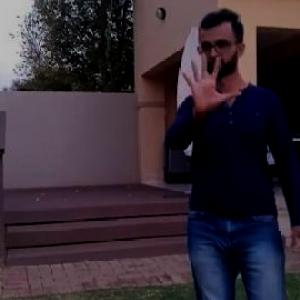follow_hand: (178, 47, 242, 121)
